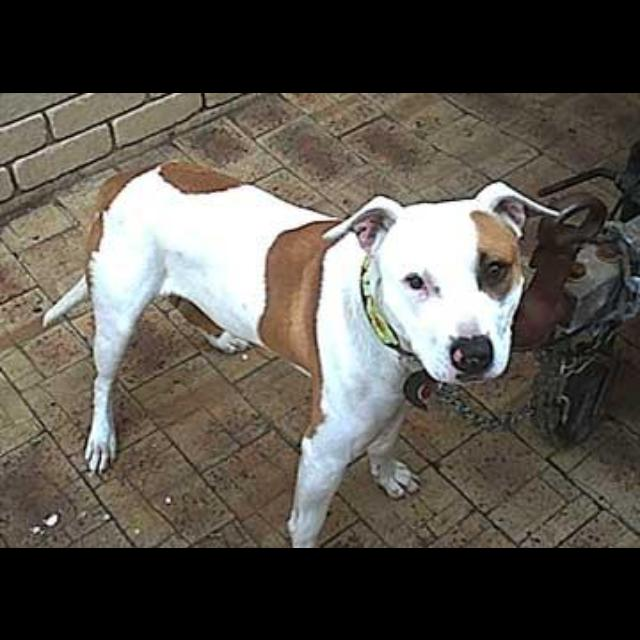amstaff: (42, 158, 554, 547)
